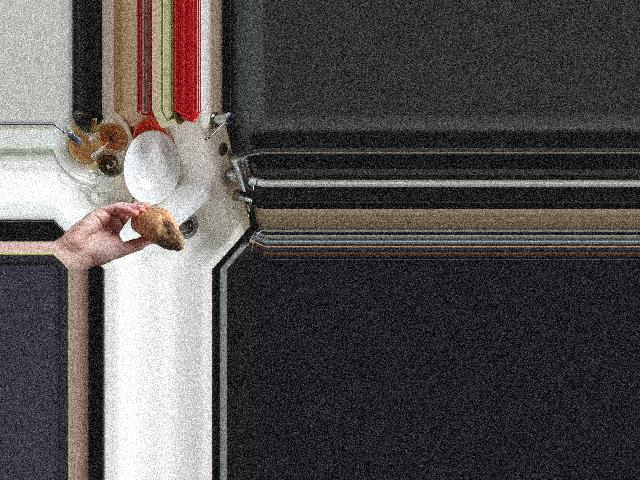sweet_potato: (131, 205, 184, 255)
